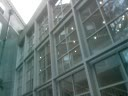window: (18, 27, 128, 96), (35, 1, 128, 27)
